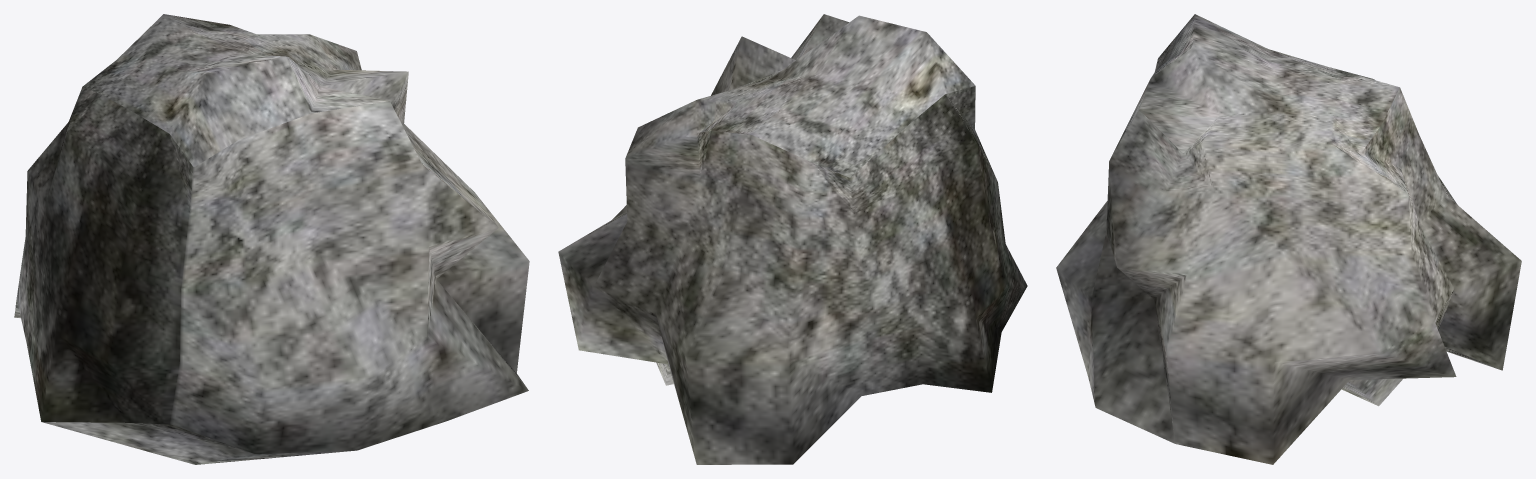
File: Stone2.glb
3 renders of one model, left to right at view 1: azimuth 30°, elevation 25°; view 2: azimuth 150°, elevation 25°; view 3: azimuth 270°, elevation 25°, orthographic. The views are drawn at different scales.
Parts seen in each view (by area): view 1: Cube; view 2: Cube; view 3: Cube.
Boxes of the visible parts, <box> form: Cube: <box>14,14,529,464</box>; Cube: <box>558,14,1027,464</box>; Cube: <box>1056,14,1521,464</box>.
Size of the model in its own units: 0.5863 by 0.4934 by 0.6445.
1 material, 1 textured.
